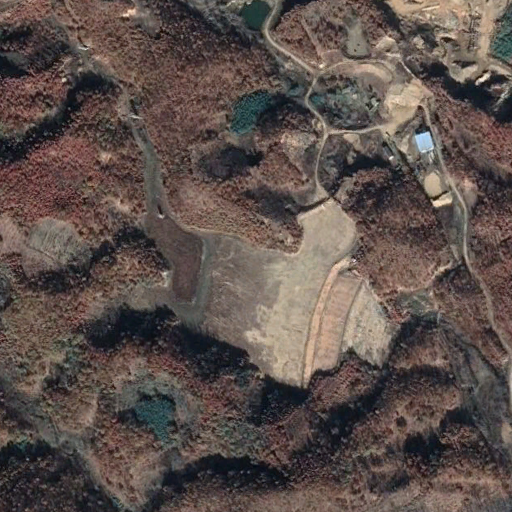tp: (130, 129, 388, 388)
